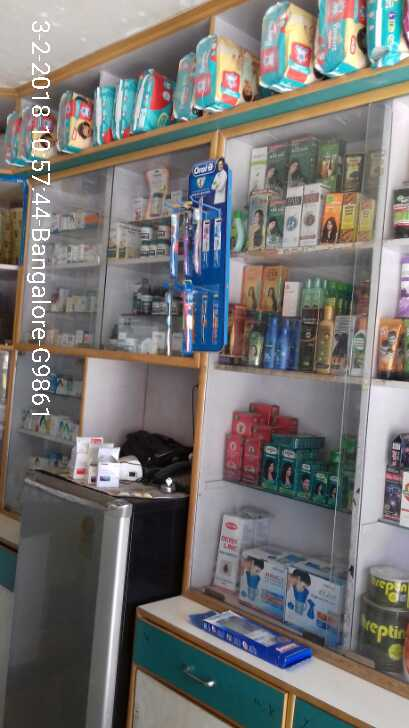pharmacy: (194, 29, 261, 117), (319, 1, 398, 67), (258, 5, 310, 92), (162, 202, 223, 275), (90, 78, 170, 132), (53, 89, 91, 152)
